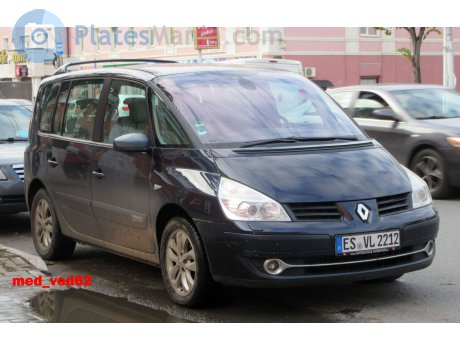License Plates: (338, 235, 399, 247)
